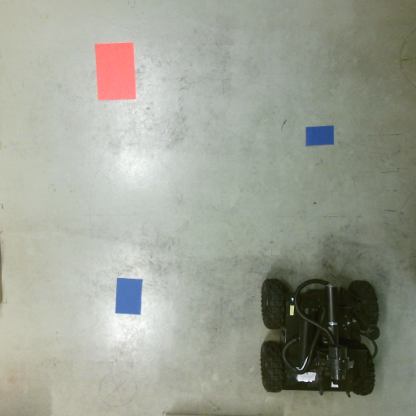Blue: (114, 277, 144, 317), (304, 125, 337, 148)
Jaguar: (254, 274, 380, 400)
Red: (93, 44, 137, 101)
